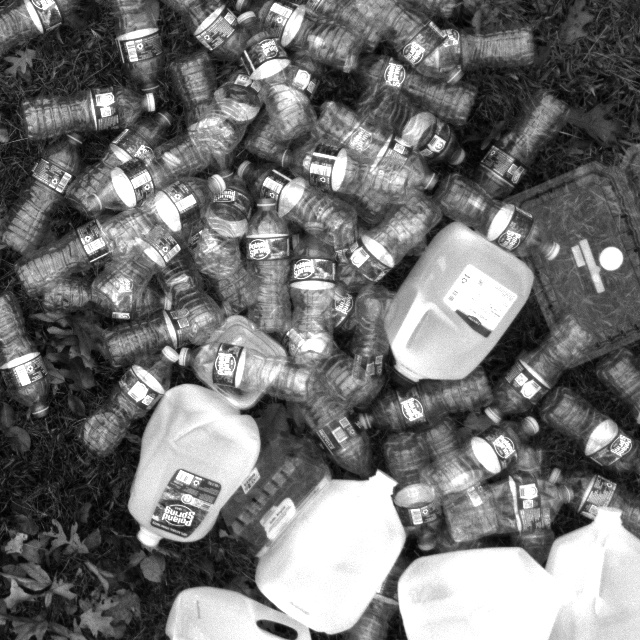bottle: (470, 90, 570, 213), (437, 168, 562, 265), (484, 317, 595, 426), (311, 100, 439, 194), (77, 345, 180, 459), (417, 413, 540, 507), (233, 7, 318, 142), (235, 156, 358, 249), (97, 171, 228, 256), (337, 191, 443, 295), (66, 111, 172, 215), (0, 132, 85, 254), (351, 0, 465, 89), (352, 367, 495, 437), (293, 375, 380, 489), (87, 137, 212, 216), (541, 384, 640, 481), (276, 314, 376, 410), (419, 415, 497, 537), (234, 0, 364, 73), (16, 216, 137, 294), (90, 217, 188, 313), (165, 49, 236, 180), (346, 54, 474, 126), (273, 146, 419, 209), (147, 231, 228, 344), (446, 477, 575, 544), (102, 302, 232, 368), (21, 82, 157, 141), (551, 465, 640, 553), (382, 432, 444, 554), (287, 219, 336, 364), (193, 64, 268, 157), (151, 0, 253, 66), (347, 279, 397, 413), (244, 197, 292, 335), (0, 293, 52, 419), (0, 0, 91, 64), (406, 27, 537, 71), (106, 0, 164, 95)
can: (381, 217, 537, 386), (253, 467, 408, 636), (125, 380, 263, 548), (396, 543, 576, 640), (533, 506, 640, 640), (159, 586, 332, 640)
container: (501, 108, 640, 369), (216, 403, 334, 555), (190, 313, 288, 411)
